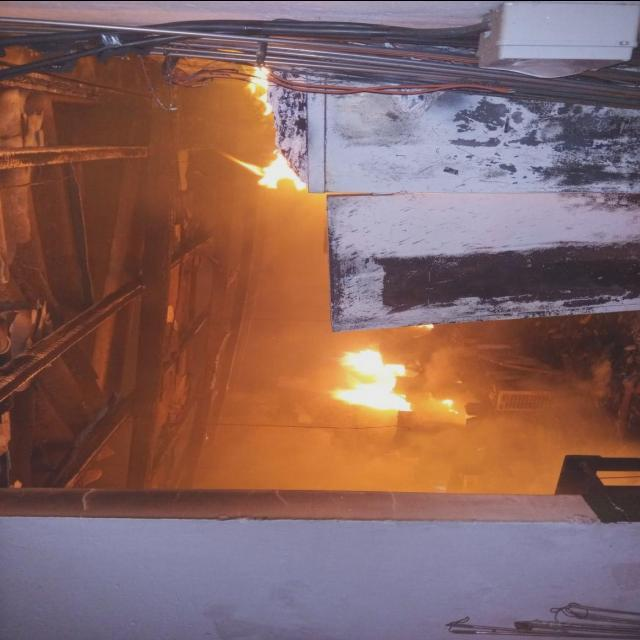Fire: (326, 346, 409, 410), (220, 142, 308, 192), (245, 64, 273, 114), (440, 398, 458, 412), (415, 324, 435, 330)
